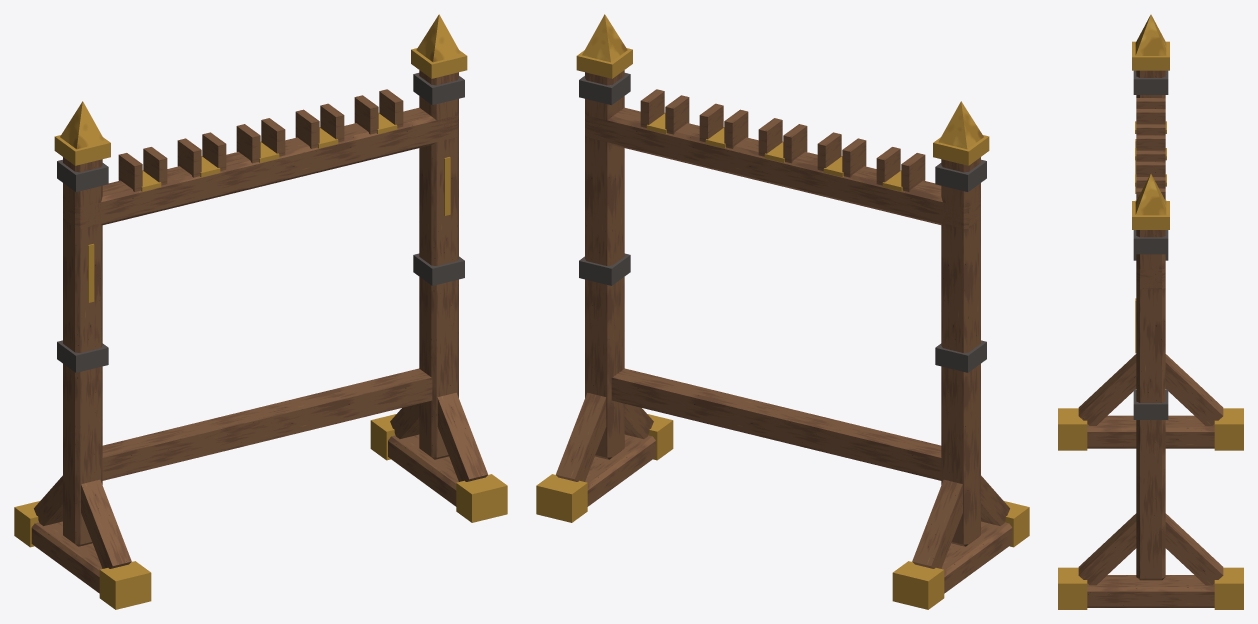
File: weapon_rack.glb
The picture shows the model from 3 angles, left to right: view 1: azimuth 30°, elevation 25°; view 2: azimuth 150°, elevation 25°; view 3: azimuth 270°, elevation 25°; orthographic projection. The views are drawn at different scales.
Visible parts, largest first — view 1: weapon_rack_crossbar, weapon_rack_posts, weapon_rack_feet; view 2: weapon_rack_crossbar, weapon_rack_posts, weapon_rack_feet; view 3: weapon_rack_feet, weapon_rack_posts, weapon_rack_crossbar.
Part boxes in pixels (x1,y1,x2,y2): weapon_rack_crossbar: (63,89,458,480); weapon_rack_posts: (54,14,467,546); weapon_rack_feet: (14,392,507,609); weapon_rack_crossbar: (585,89,980,480); weapon_rack_posts: (576,14,989,546); weapon_rack_feet: (536,392,1029,609); weapon_rack_feet: (1058,354,1243,609); weapon_rack_posts: (1132,14,1169,580); weapon_rack_crossbar: (1135,98,1166,289).
Size of what is drawn, in the model's own units: 1.43 by 1.63 by 0.64.
Materials: 3 (3 with a texture image).
